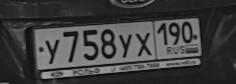license-plateSW: (33, 15, 202, 71)
